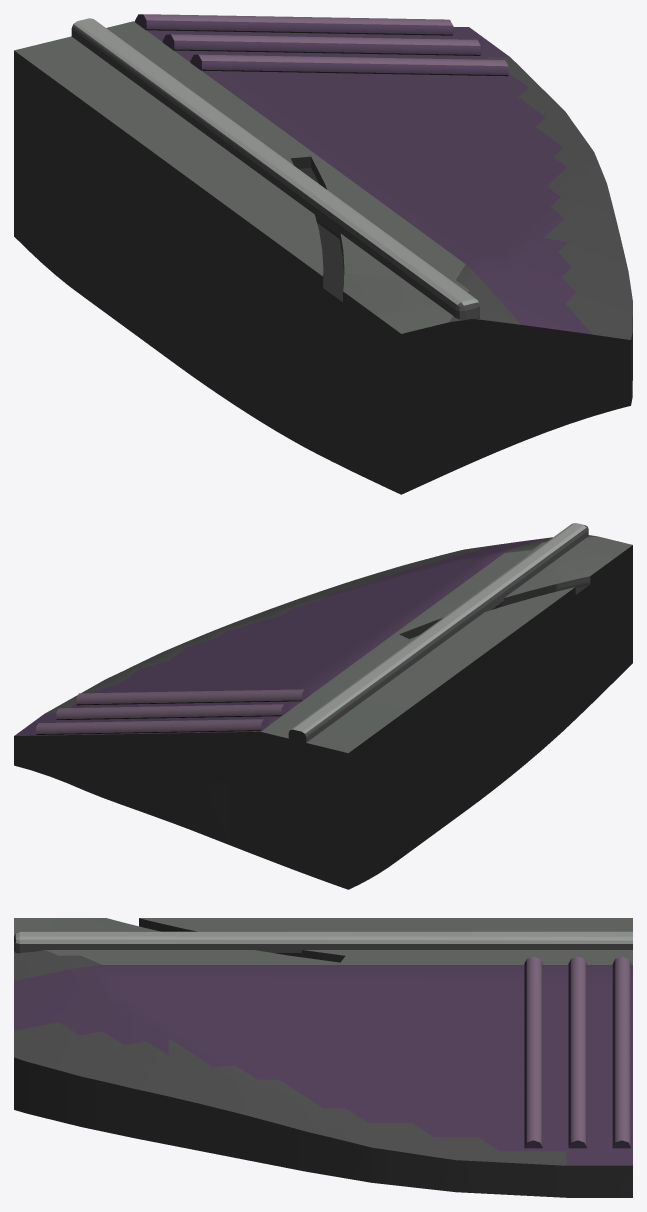
The model's file is camanis_boss_123.glb.
3 views of the same model, one above another, from view 1: azimuth 30°, elevation 25°; view 2: azimuth 150°, elevation 25°; view 3: azimuth 270°, elevation 25° (orthographic). The views are drawn at different scales.
Visible parts, largest first — view 1: camanis_boss_123; view 2: camanis_boss_123; view 3: camanis_boss_123.
Part boxes in pixels (x1,y1,x2,y2): camanis_boss_123: (14, 14, 632, 494); camanis_boss_123: (14, 523, 632, 889); camanis_boss_123: (14, 918, 632, 1197).
Bounding box in the file's own units: 19 × 8.35 × 28.
